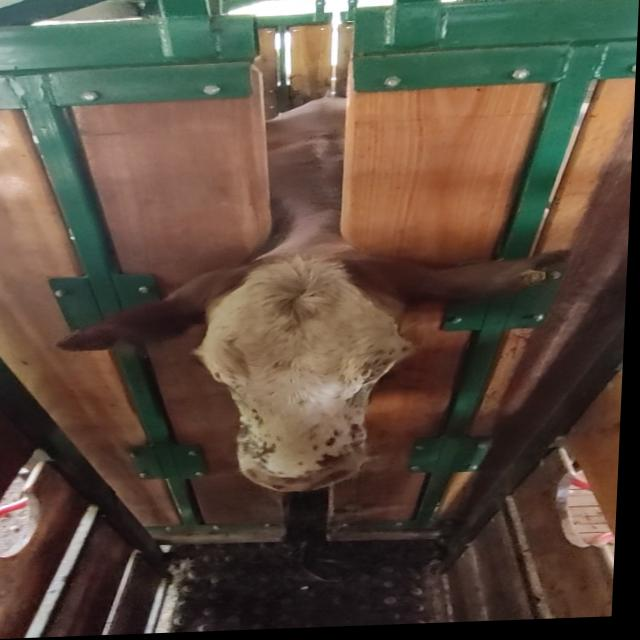cowFace: (198, 248, 420, 494)
